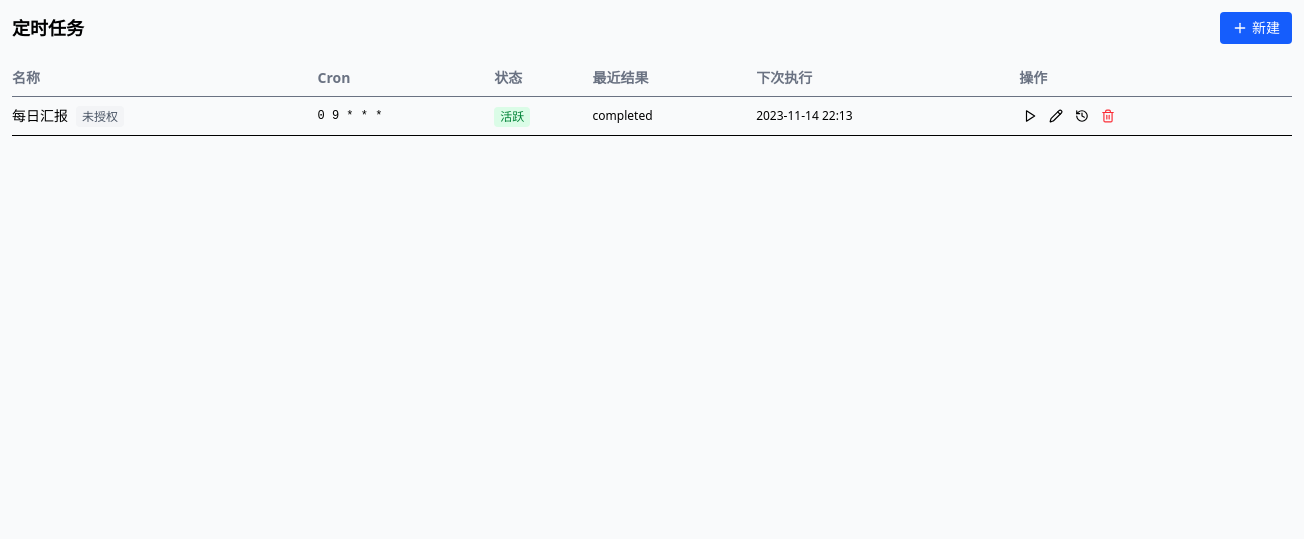
Test case: Cron 页 › 保存成功后关闭表单
Click the button named "编辑定时任务 每日汇报" at (1056, 116), box [1045,105,1067,127]
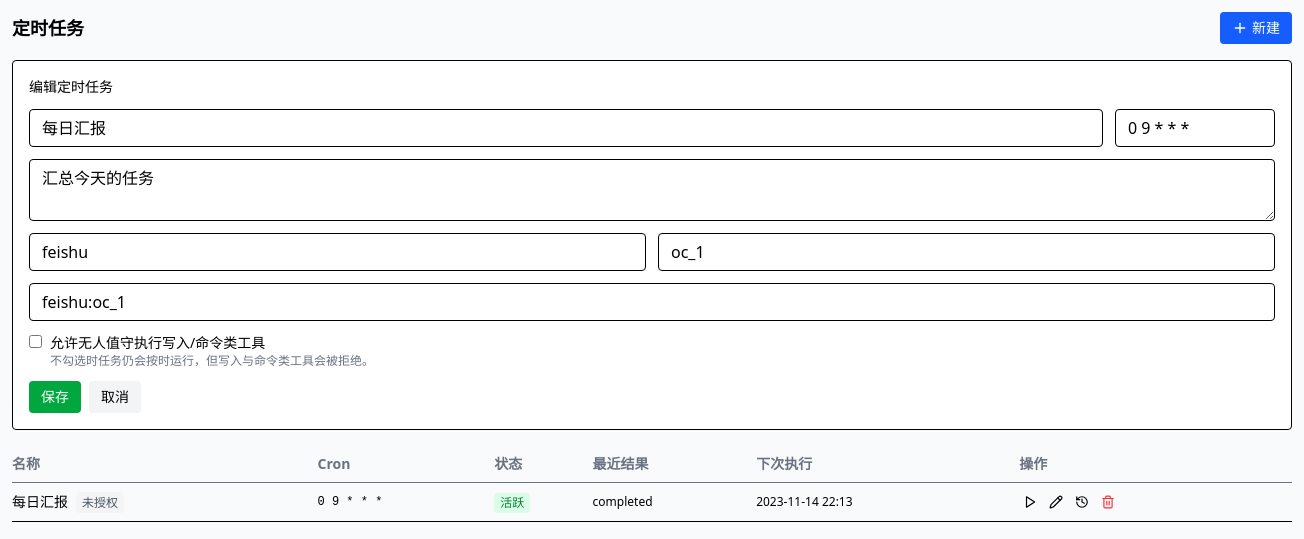
Click the button "保存" at (55, 397), box [29,381,81,413]
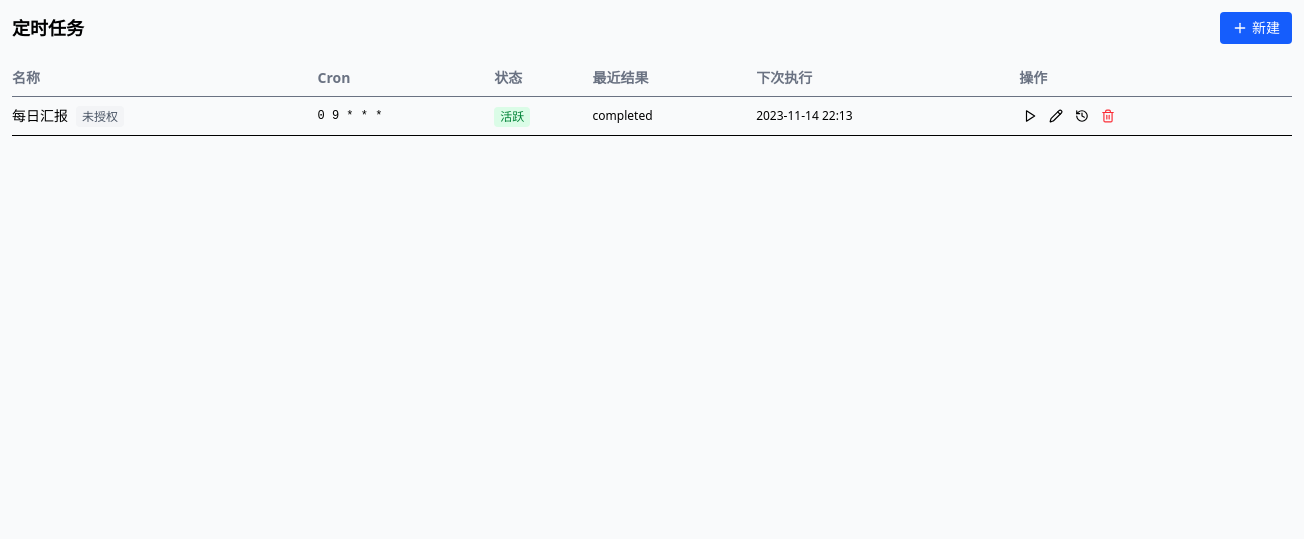
Expected: the heading "编辑定时任务" is gone
